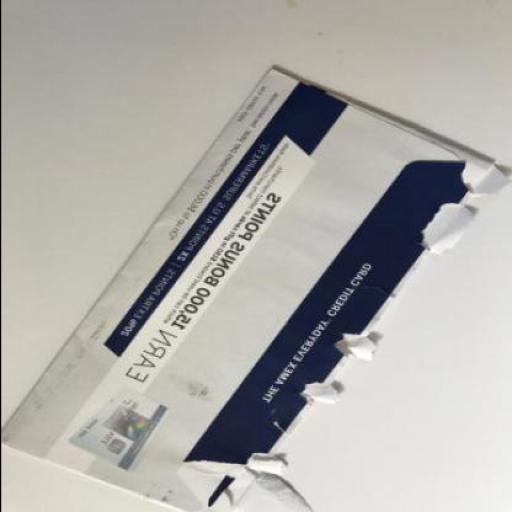paper: (0, 69, 511, 512)
